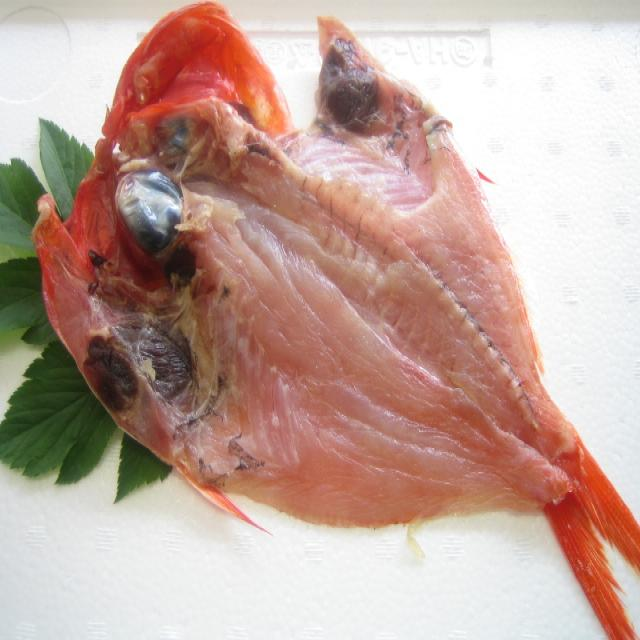熟制海鲜: (30, 0, 640, 640)
